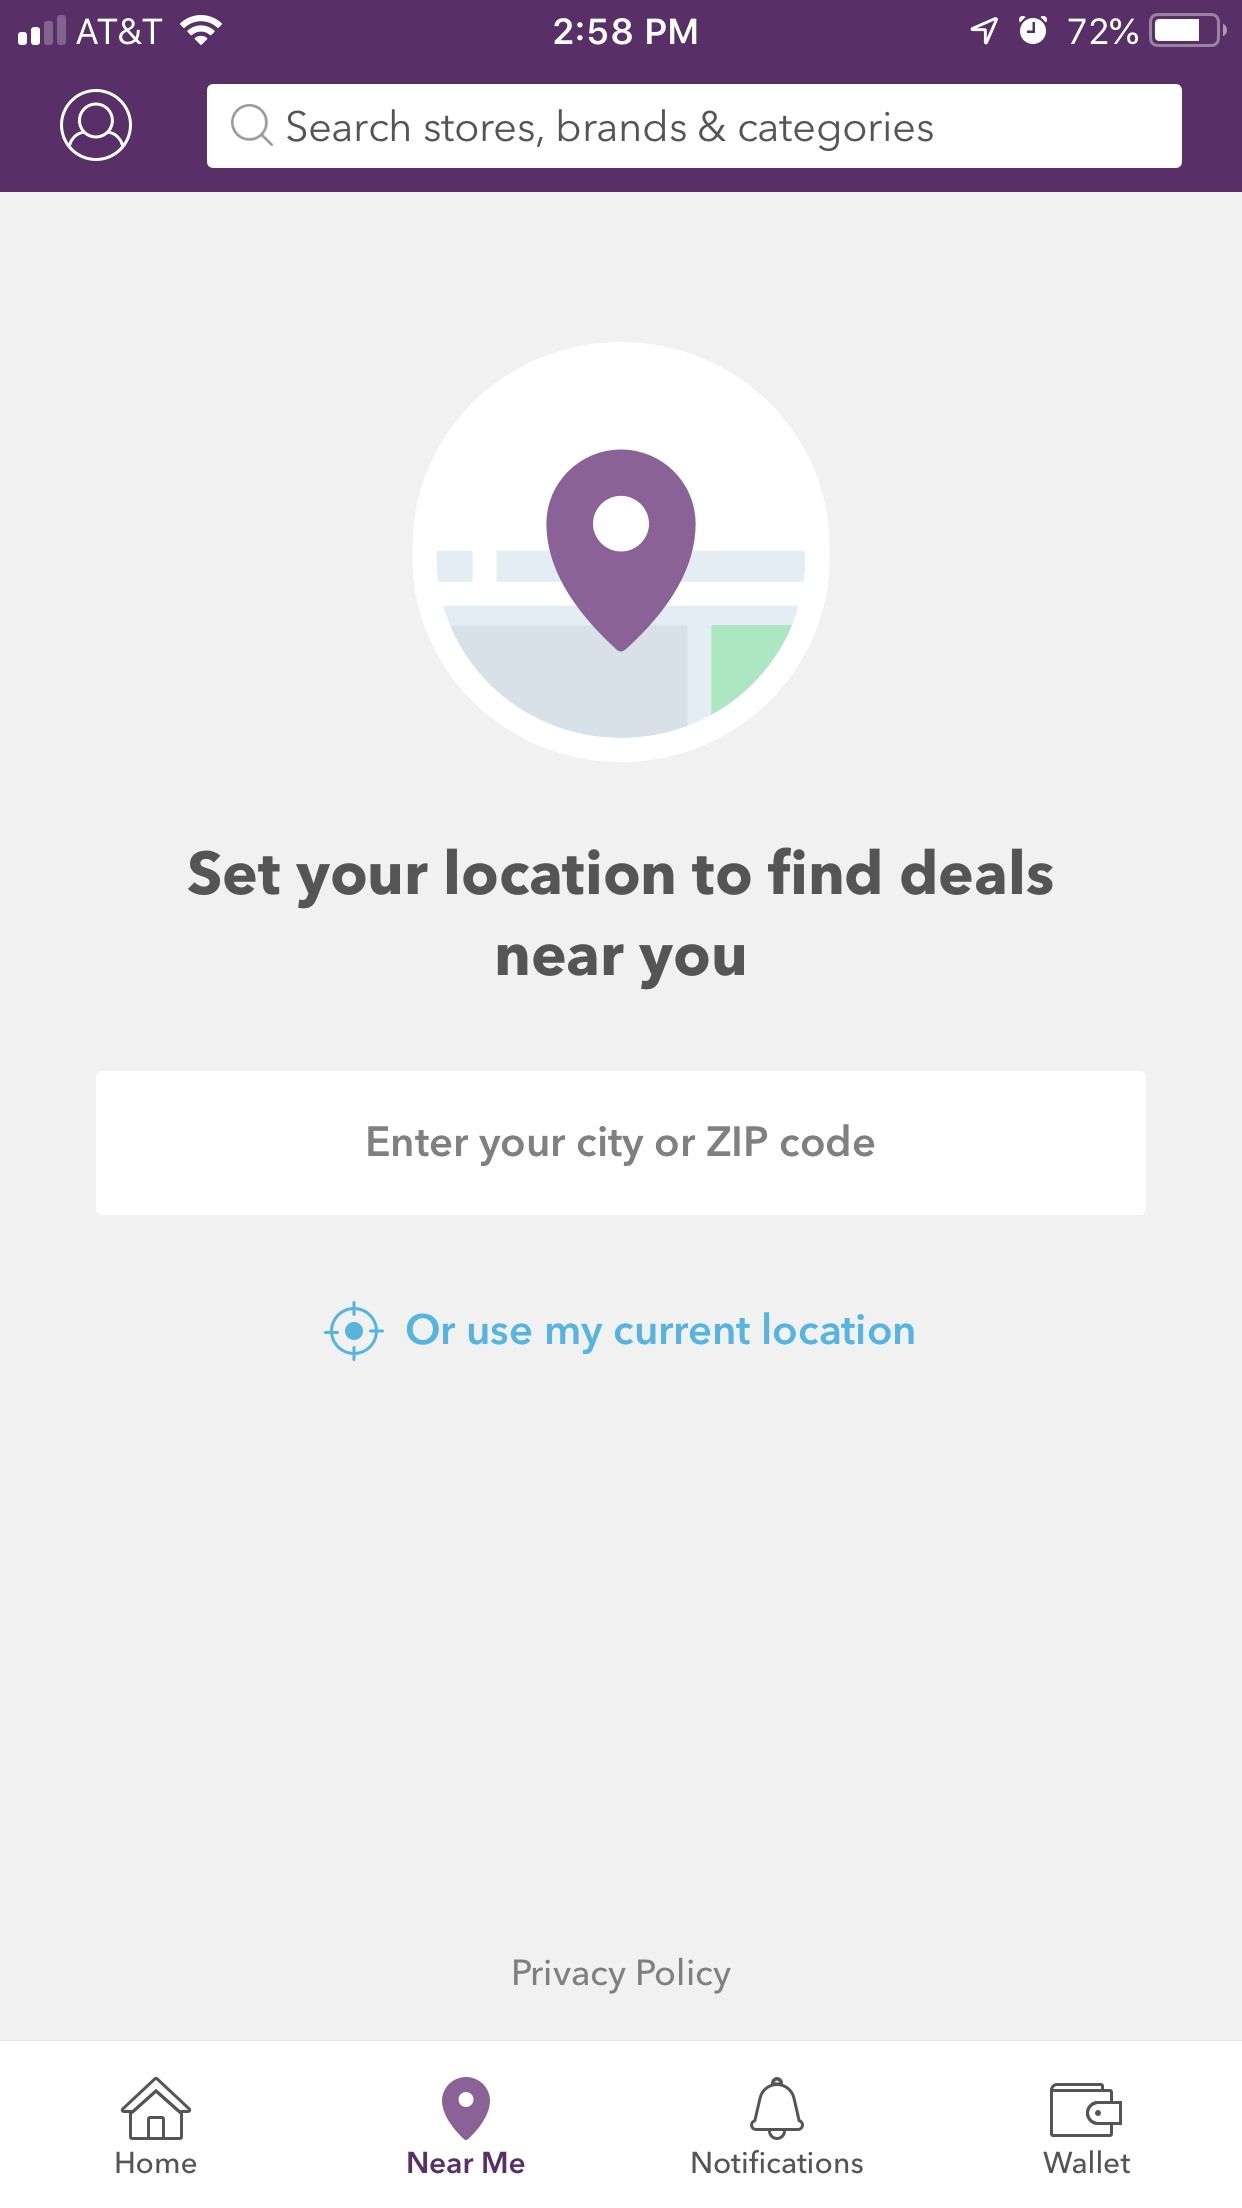EditText: (96, 1071, 1146, 1216), (206, 85, 1181, 168)
Icon: (412, 341, 833, 766), (61, 89, 133, 162), (121, 2076, 193, 2140), (1049, 2082, 1122, 2137), (325, 1301, 385, 1362), (751, 2078, 805, 2141), (441, 2076, 491, 2140), (232, 105, 274, 147)
Text: (190, 848, 1054, 990), (287, 111, 933, 152), (406, 1312, 914, 1356), (369, 1124, 875, 1168), (514, 1956, 732, 1994), (692, 2149, 864, 2175), (408, 2150, 526, 2175), (1043, 2149, 1130, 2175), (117, 2150, 199, 2175)
UpperTaskBar: (2, 2, 1242, 49)
